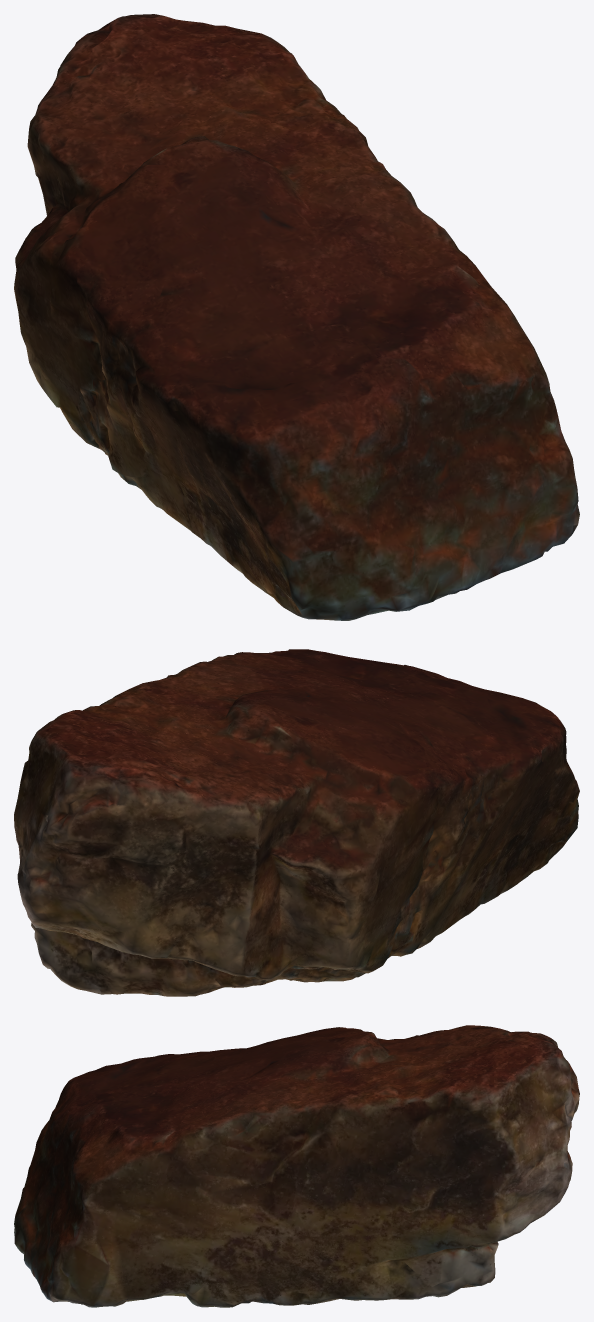
Rendered from rock_07.glb.
3 views of the same model, one above another, from view 1: azimuth 30°, elevation 25°; view 2: azimuth 150°, elevation 25°; view 3: azimuth 270°, elevation 25° (orthographic). The views are drawn at different scales.
Visible parts, largest first — view 1: rock_07; view 2: rock_07; view 3: rock_07.
Part boxes in pixels (x1=…): rock_07: x1=14, y1=14, x2=579, y2=620; rock_07: x1=14, y1=649, x2=579, y2=996; rock_07: x1=14, y1=1025, x2=579, y2=1307.
Bounding box in the file's own units: 0.1689 × 0.1437 × 0.3203.
1 material, 1 textured.
